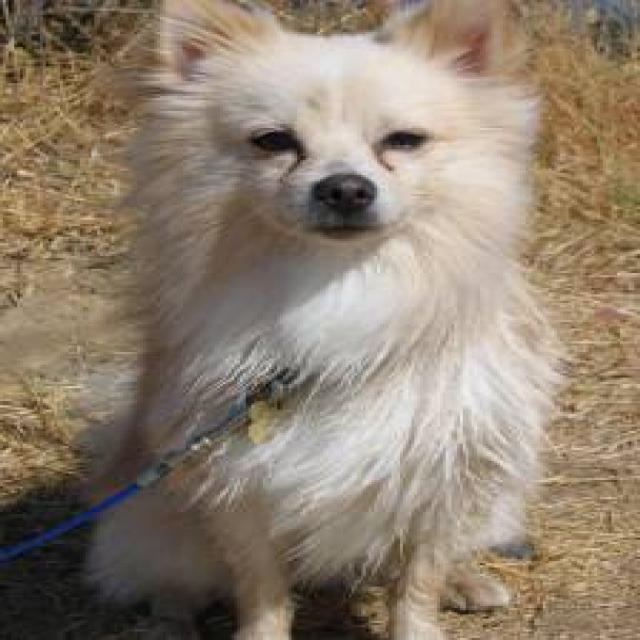dog-pomeranian: (69, 2, 560, 636)
